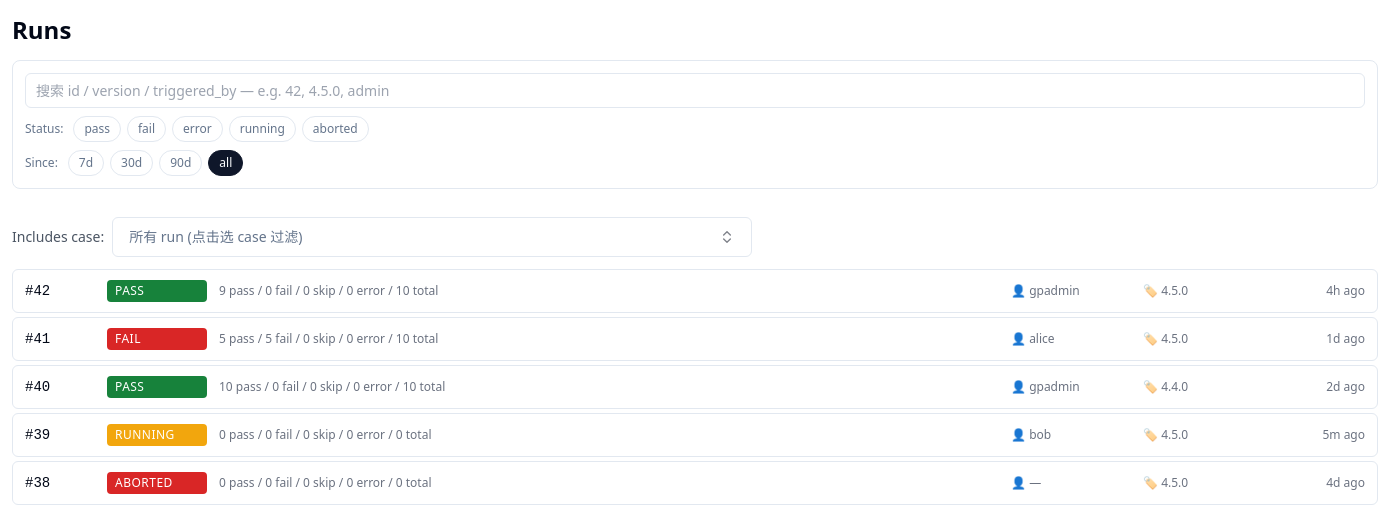
Test: RunsPage › q-search matches version (target_version)
In the field with test id "filter-q": x=695, y=90 [25, 73, 1365, 108], type "4.4.0"
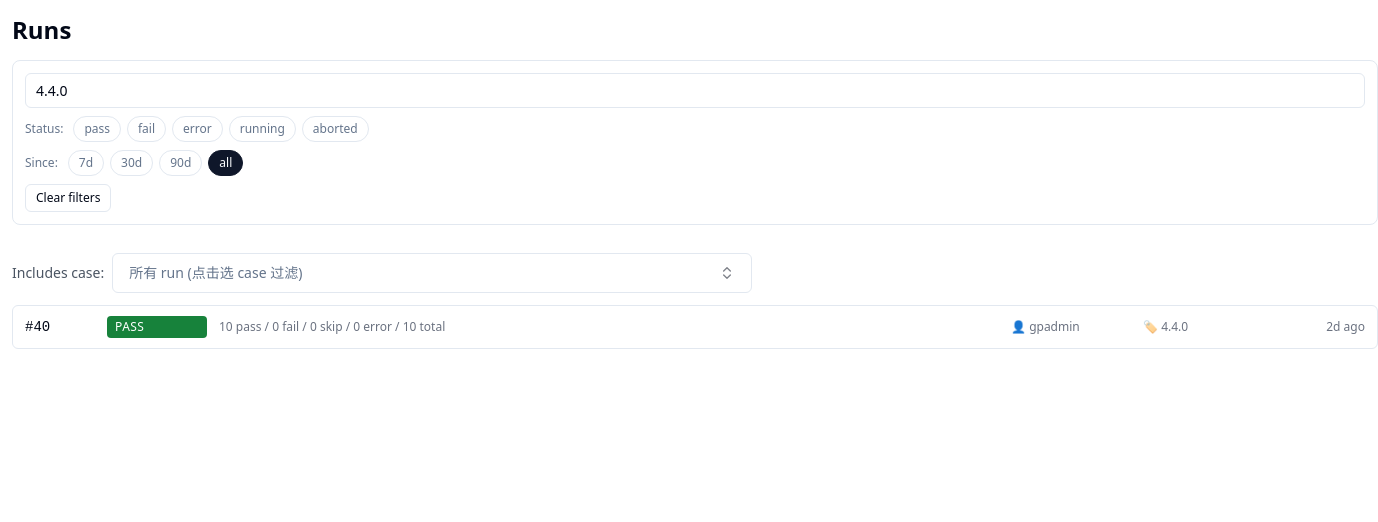
expect the link with test id "runs-page-row-40" is shown: met, box [12, 305, 1377, 349]
expect the link with test id "runs-page-row-42" is gone: met
